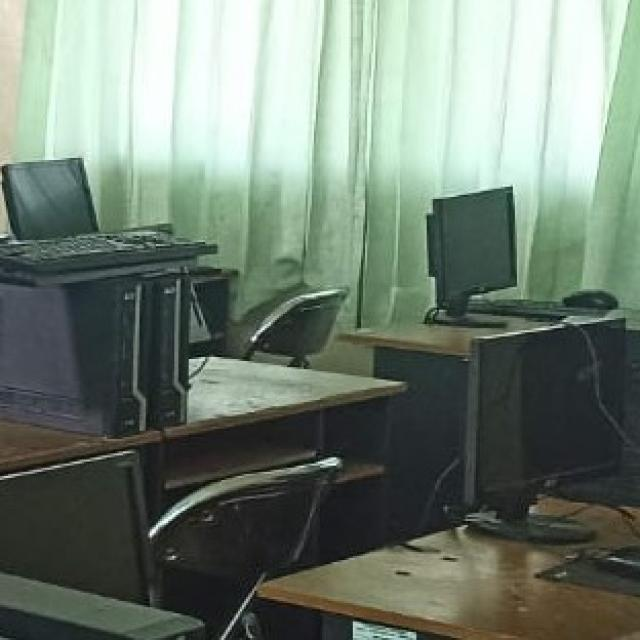offscreen: (429, 186, 516, 316)
